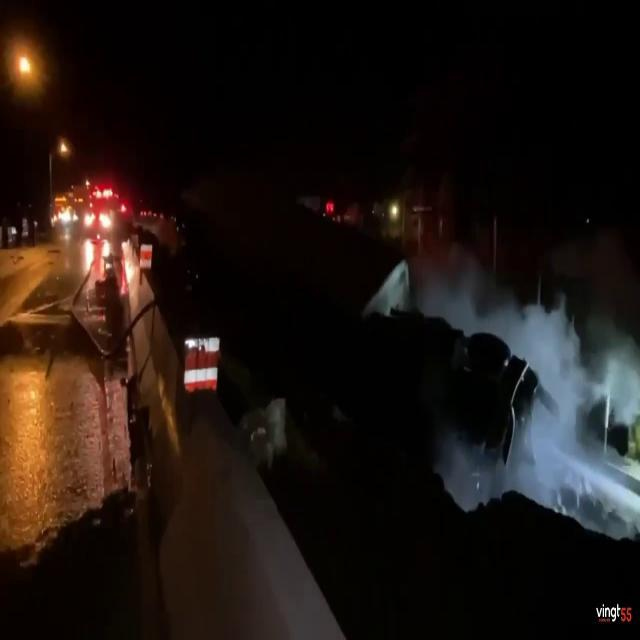Smoke: (482, 278, 594, 518)
